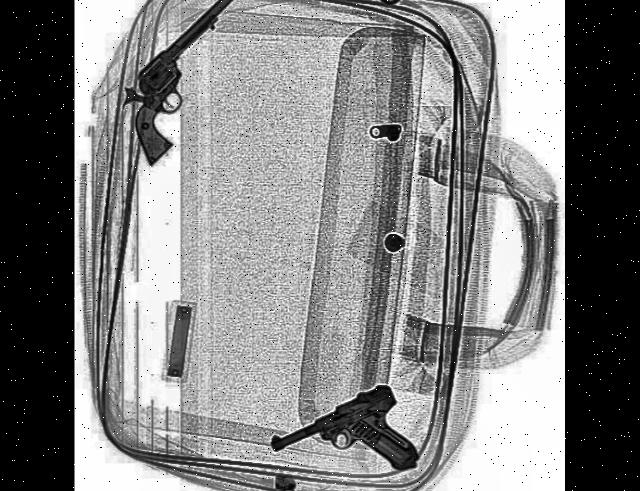Gun: (118, 0, 273, 166), (269, 375, 423, 491)
